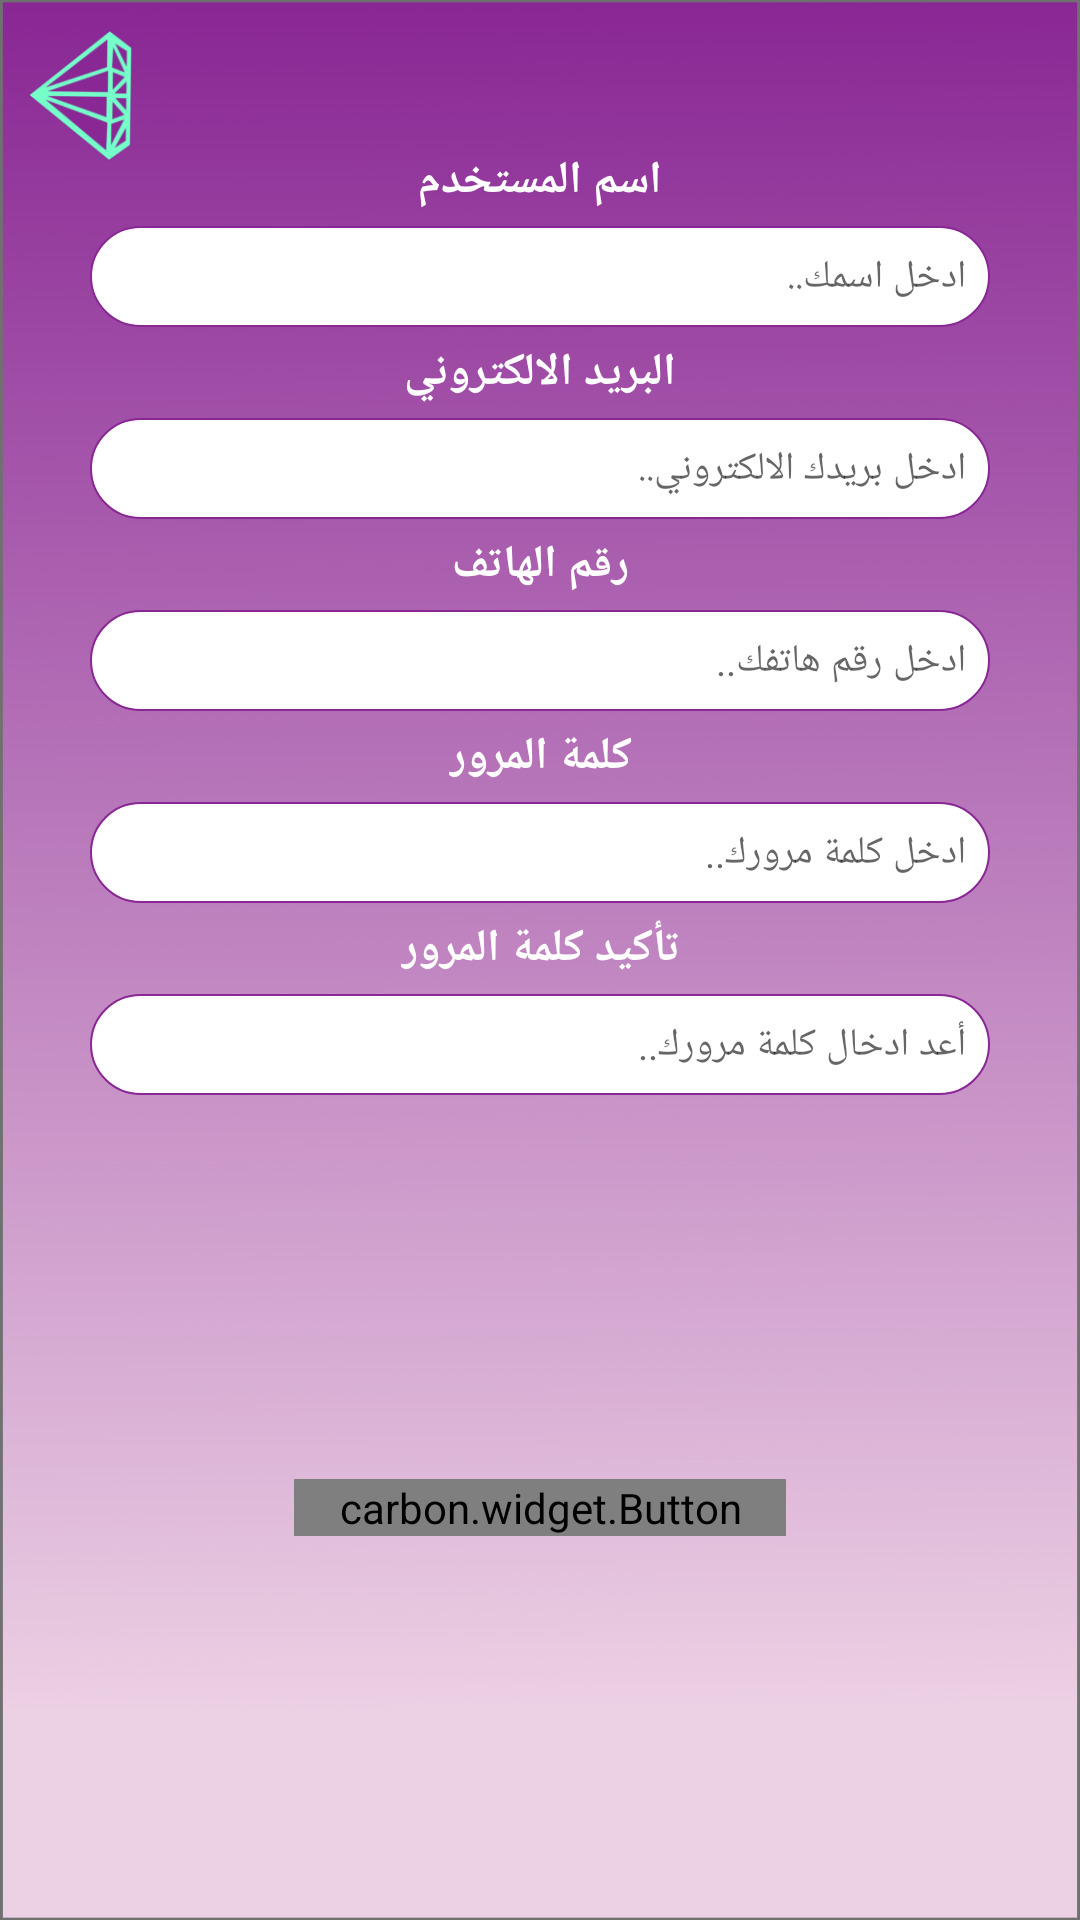

Where to tap for icons on this 1080px x 1920px app screen, as [x,y]:
back jewel: [81,95]
